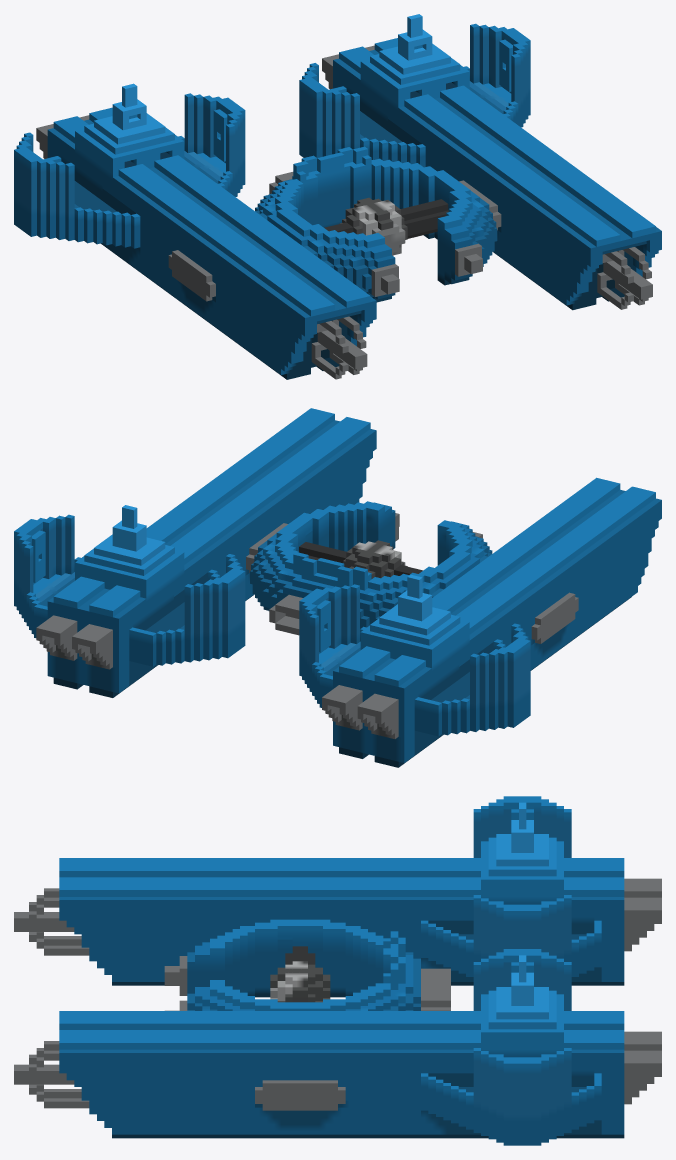
Rendered from BlueBossV1.5.dae.
3 renders of one model, top to bottom at view 1: azimuth 30°, elevation 25°; view 2: azimuth 150°, elevation 25°; view 3: azimuth 270°, elevation 25°, orthographic. The views are drawn at different scales.
Visible parts, largest first — view 1: BlueBossV1.5; view 2: BlueBossV1.5; view 3: BlueBossV1.5.
Boxes of the visible parts, x1,y1,x2,y2 form: BlueBossV1.5: [14, 14, 661, 379]; BlueBossV1.5: [14, 408, 661, 767]; BlueBossV1.5: [14, 796, 661, 1145].
Bounding box in the file's own units: 84 × 24 × 86.
Materials: 1 (1 with a texture image).
